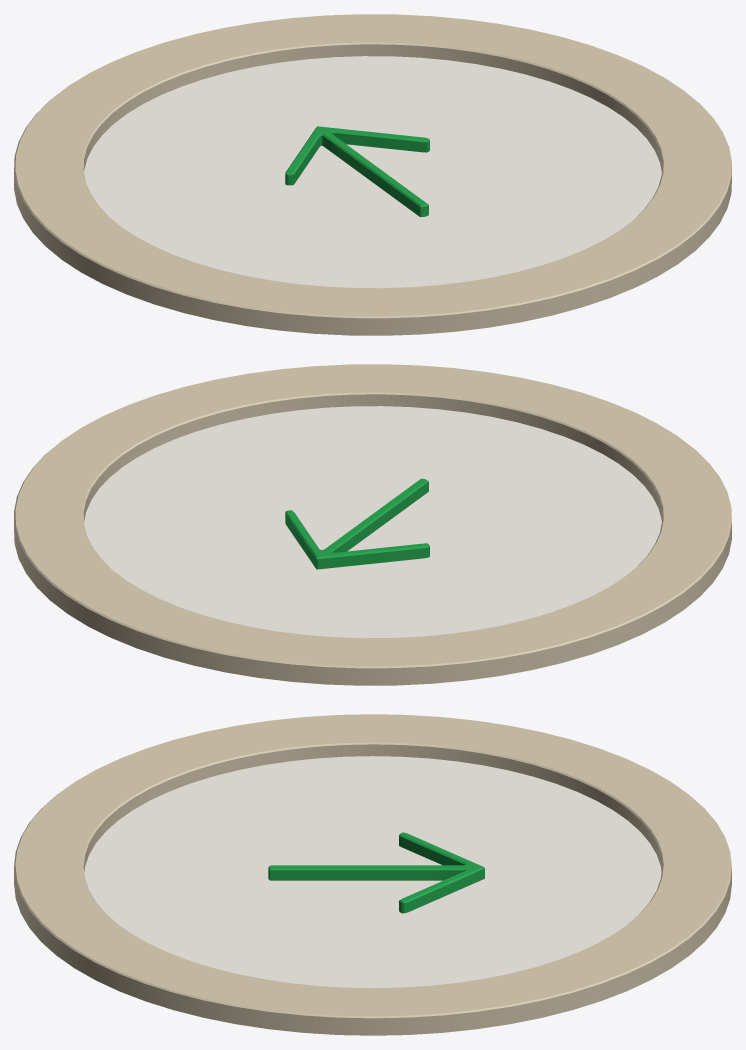
File: arrow.glb
3 views of the same model, one above another, from view 1: azimuth 30°, elevation 25°; view 2: azimuth 150°, elevation 25°; view 3: azimuth 270°, elevation 25° (orthographic).
Visible parts, largest first — view 1: arrow final; view 2: arrow final; view 3: arrow final.
Part boxes in pixels (box(x1,y1,x2,y2)): arrow final: box(14, 14, 731, 335); arrow final: box(14, 364, 731, 685); arrow final: box(14, 714, 731, 1035).
Bounding box in the file's own units: 0.4983 × 0.0143 × 0.4983.
